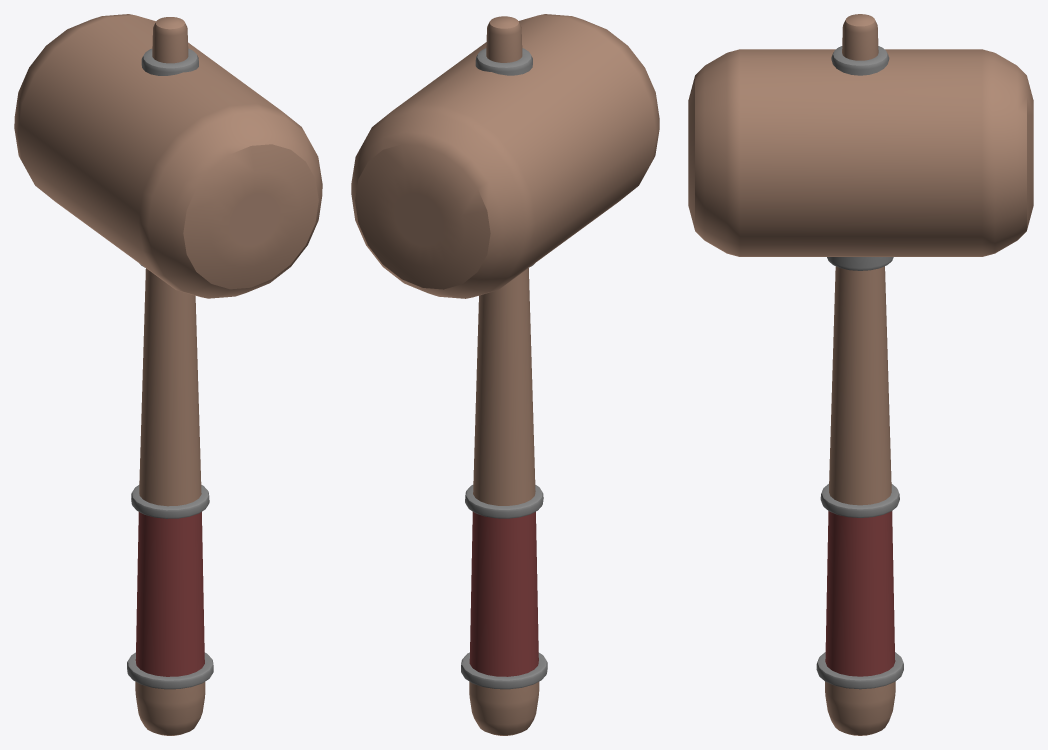
The model's file is Le gros maillet.fbx.
3 renders of one model, left to right at view 1: azimuth 30°, elevation 25°; view 2: azimuth 150°, elevation 25°; view 3: azimuth 270°, elevation 25°, orthographic.
Visible parts, largest first — view 1: pCylinder3; view 2: pCylinder3; view 3: pCylinder3.
Boxes of the visible parts, x1=… form: pCylinder3: x1=14, y1=14, x2=322, y2=735; pCylinder3: x1=351, y1=14, x2=659, y2=735; pCylinder3: x1=688, y1=14, x2=1033, y2=735.
Bounding box in the file's own units: 13.03 × 48.7 × 21.5.
